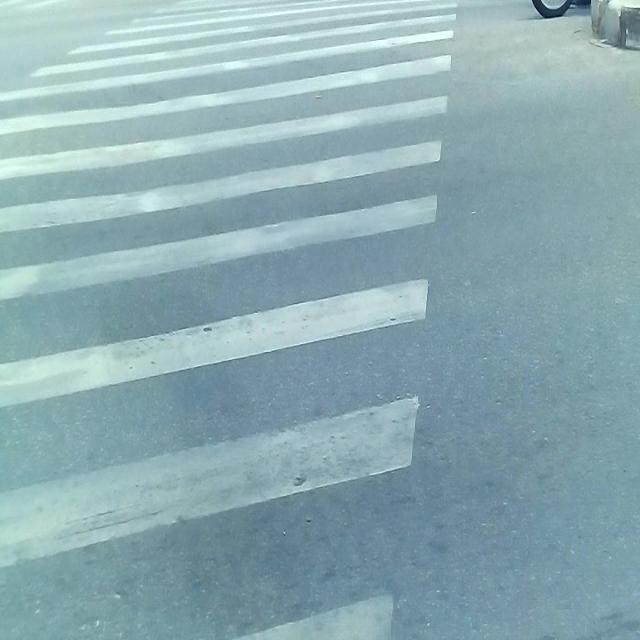crosswalk: (0, 0, 465, 640)
